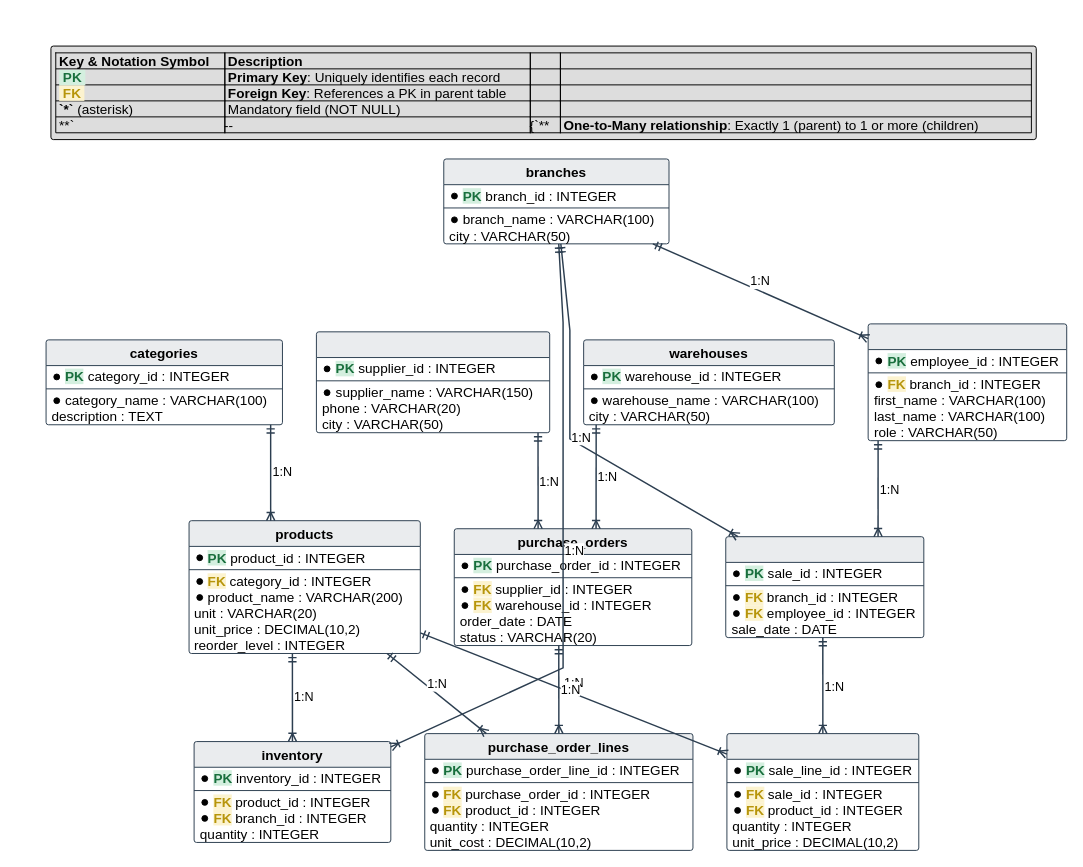
This 1083x867 diagram has some shape labels left out. Each missing label, with the box of its shape:
employees: (867, 323, 1067, 441)
sales_transaction_lines: (726, 733, 919, 850)
sales_transactions: (725, 536, 924, 638)
suppliers: (315, 331, 550, 433)
